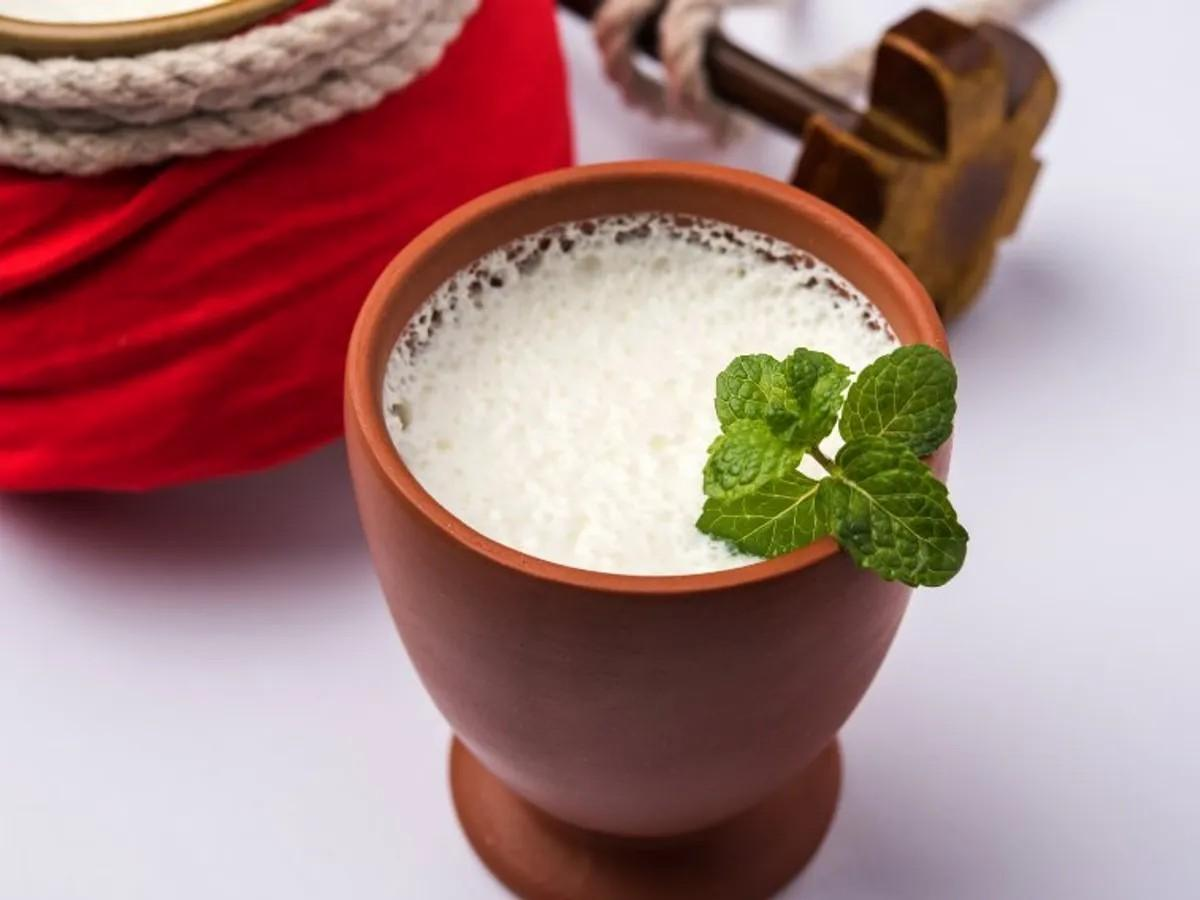Lassi: (380, 213, 900, 576)
